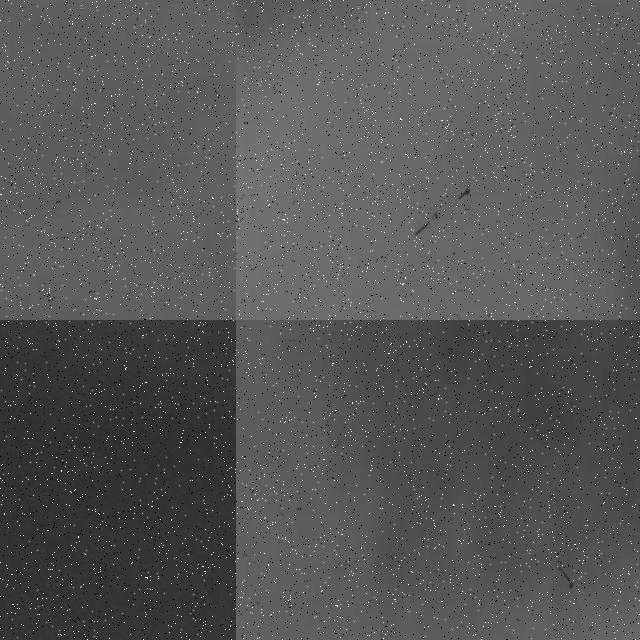Rocket: (458, 188, 469, 200)
